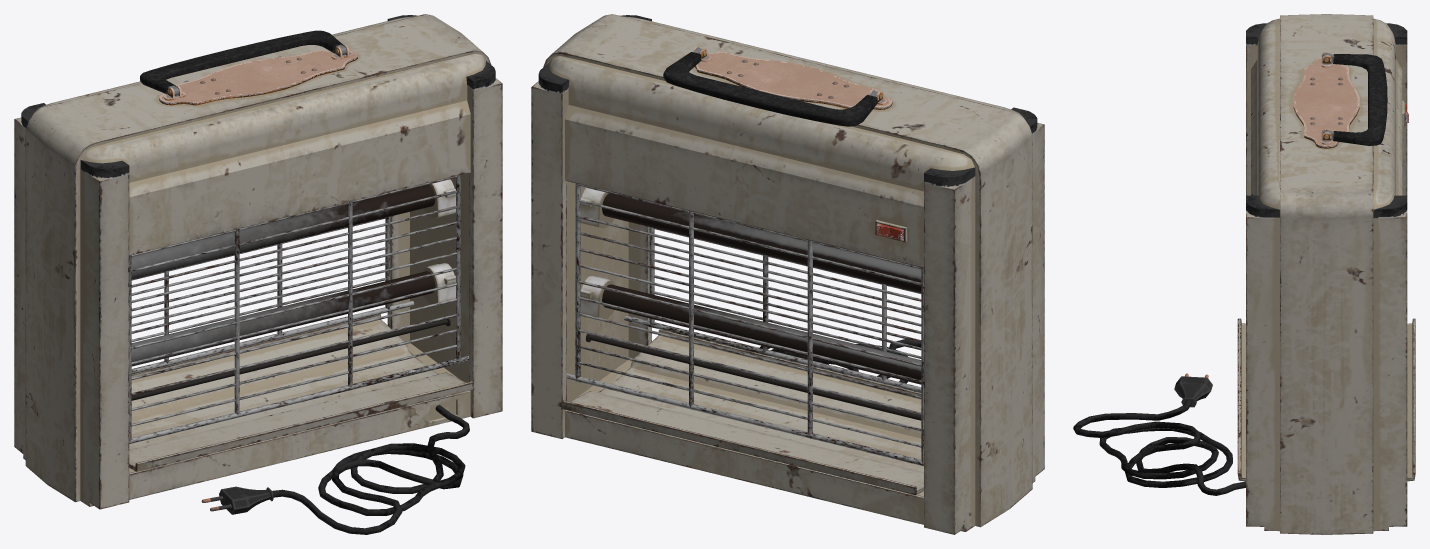
The picture shows the model from 3 angles, left to right: view 1: azimuth 30°, elevation 25°; view 2: azimuth 150°, elevation 25°; view 3: azimuth 270°, elevation 25°; orthographic projection. The views are drawn at different scales.
Parts seen in each view (by area): view 1: Heater; view 2: Heater; view 3: Heater.
Boxes of the visible parts, bbox=[...] form: Heater: bbox=[14, 14, 502, 534]; Heater: bbox=[531, 14, 1044, 534]; Heater: bbox=[1073, 14, 1415, 534].
Size of the model in its own units: 2.48 by 2.06 by 1.85.
Materials: 1 (1 with a texture image).
